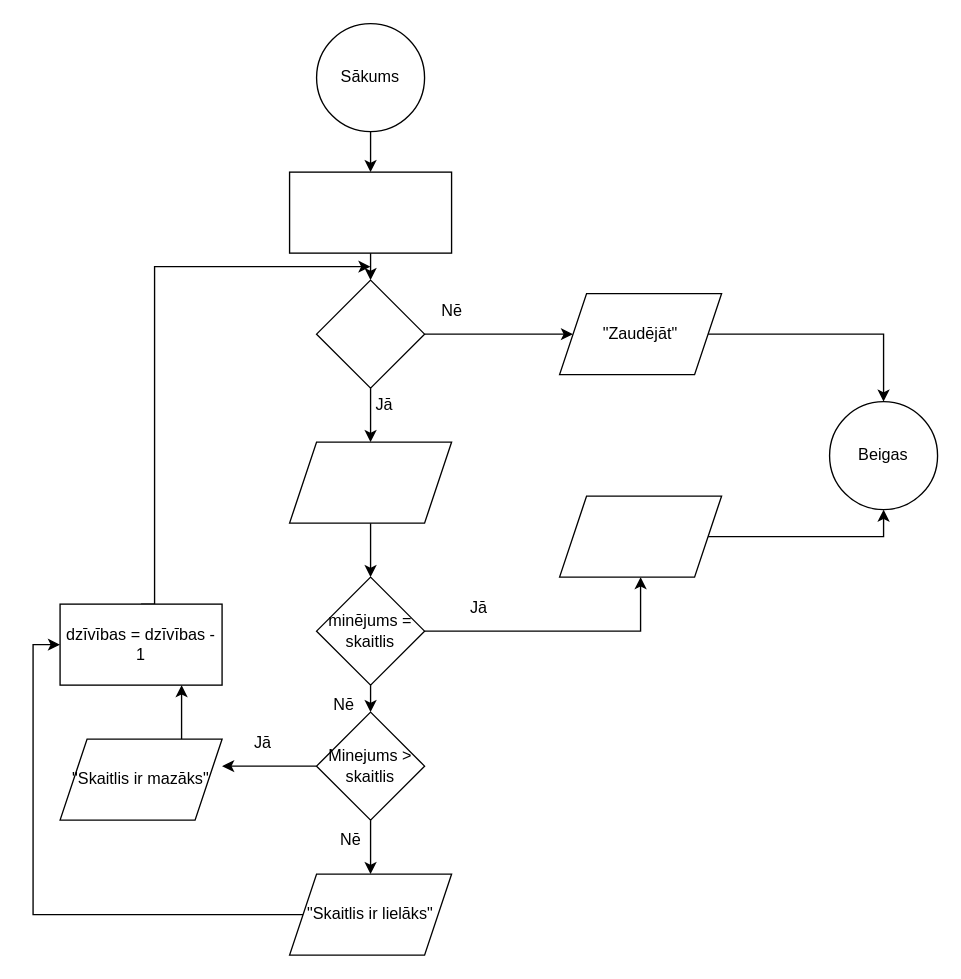
Some shapes in this 961 by 979 pixel diagram are drawn without their labels. Here are the shapes that lost their labels. From the top down, the centre of each, then its label:
(370,212): skaitlis = random(0,100) dzīvības = 5
(370,333): dzīvības > 0
(370,482): minējums
(640,536): "Uzvara"
